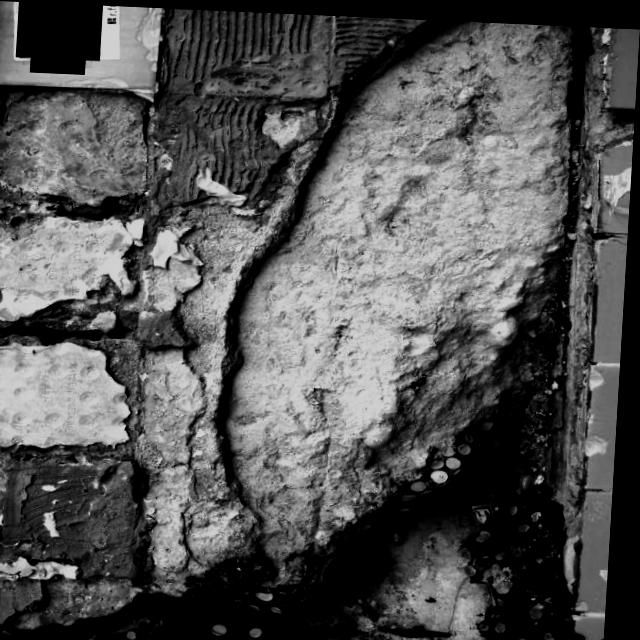qr_code: (23, 1, 96, 66)
